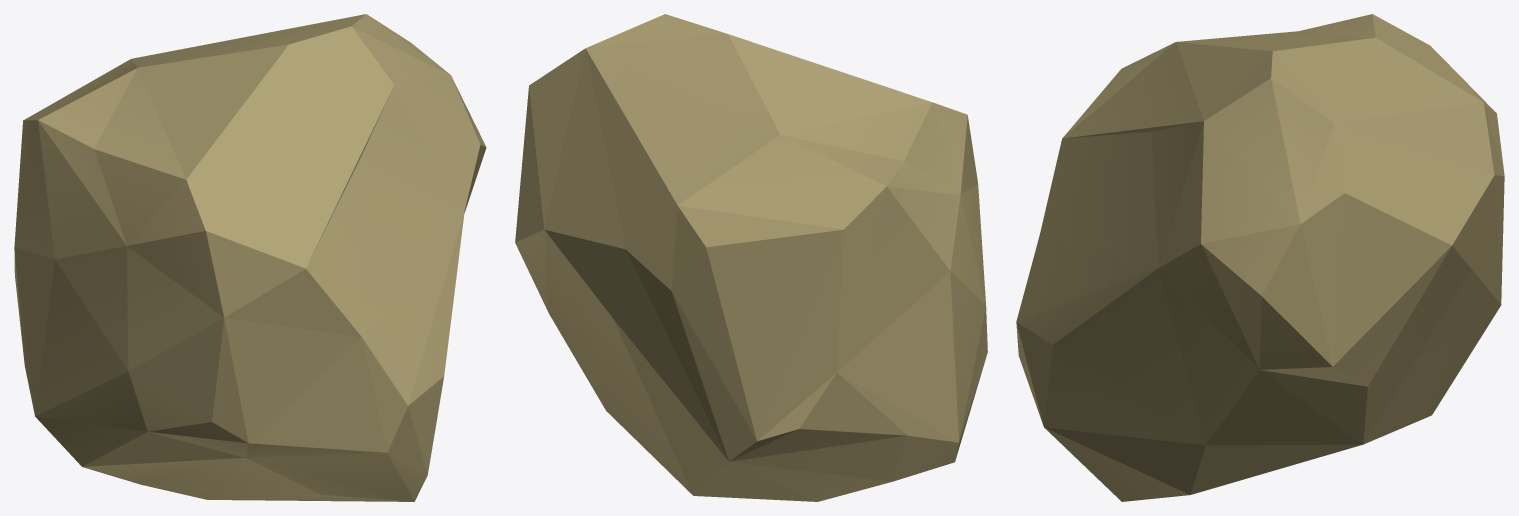
File: SM_small_rock_04.fbx
3 renders of one model, left to right at view 1: azimuth 30°, elevation 25°; view 2: azimuth 150°, elevation 25°; view 3: azimuth 270°, elevation 25°, orthographic. The views are drawn at different scales.
Visible parts, largest first — view 1: small_rock_04; view 2: small_rock_04; view 3: small_rock_04.
Boxes of the visible parts, <box> form: small_rock_04: <box>14,14,486,501</box>; small_rock_04: <box>515,14,987,501</box>; small_rock_04: <box>1016,14,1504,501</box>.
Bounding box in the file's own units: 38.52 × 37.36 × 37.06.
